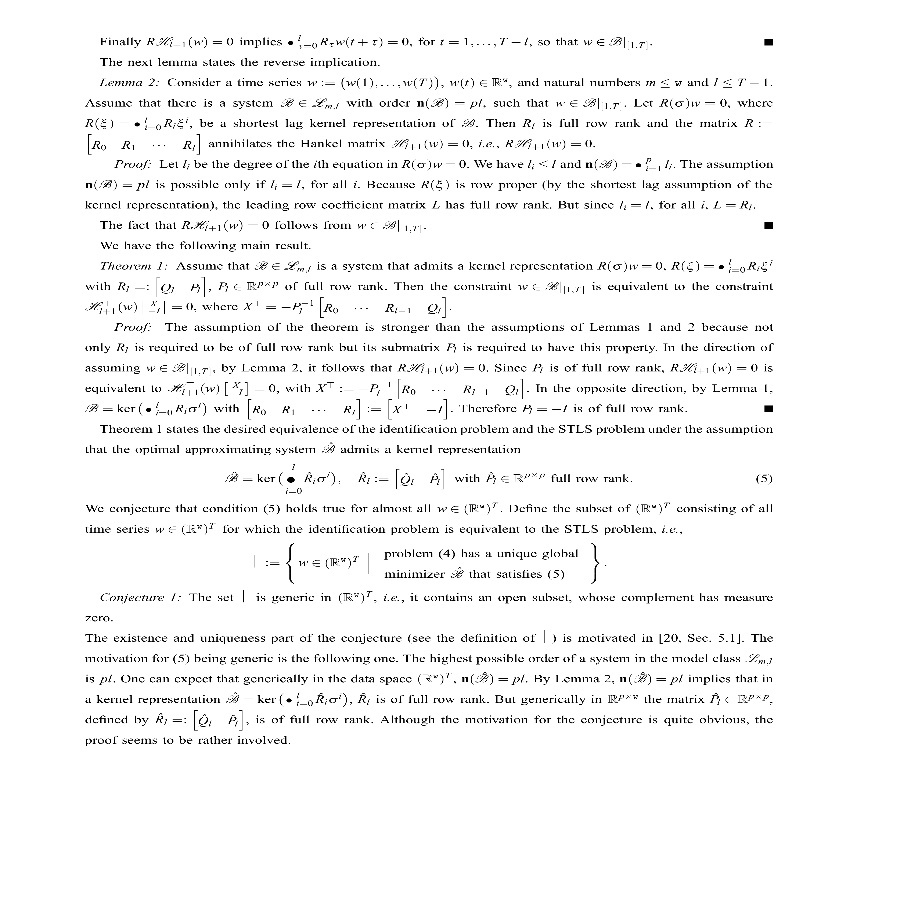eq: (247, 539, 600, 588), (220, 463, 343, 498), (355, 462, 449, 492)
